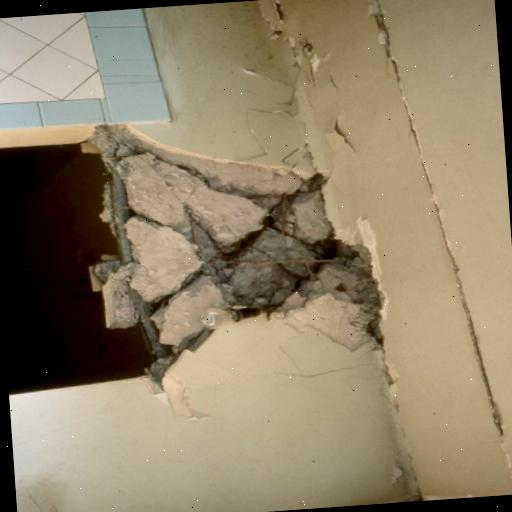spalling: (348, 0, 512, 456), (101, 122, 387, 374)
